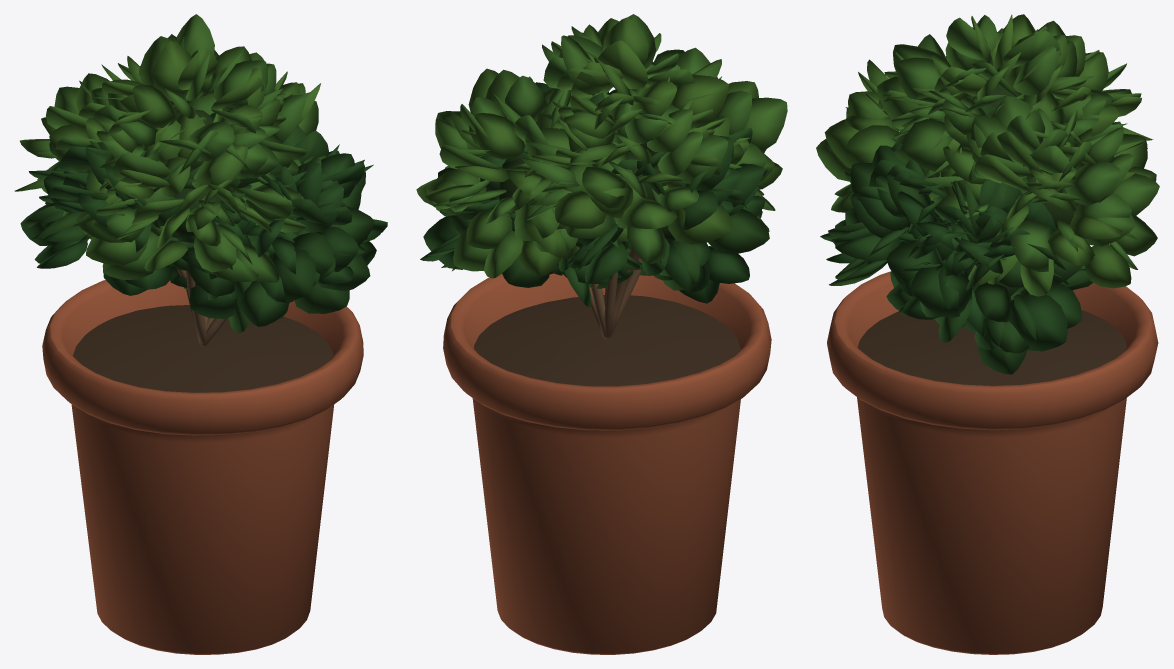
File: pot_bush.glb
The picture shows the model from 3 angles, left to right: view 1: azimuth 30°, elevation 25°; view 2: azimuth 150°, elevation 25°; view 3: azimuth 270°, elevation 25°; orthographic projection. The views are drawn at different scales.
Parts seen in each view (by area): view 1: Sammel Putz, Sammel Pflanze, Sammel Holz, Sammel Blatt; view 2: Sammel Putz, Sammel Pflanze, Sammel Holz, Sammel Blatt; view 3: Sammel Putz, Sammel Pflanze, Sammel Blatt.
Boxes of the visible parts, bbox=[...] form: Sammel Putz: bbox=[42, 280, 363, 654]; Sammel Pflanze: bbox=[14, 14, 387, 332]; Sammel Holz: bbox=[158, 236, 226, 346]; Sammel Blatt: bbox=[173, 109, 299, 238]; Sammel Putz: bbox=[443, 273, 771, 654]; Sammel Pflanze: bbox=[416, 14, 787, 306]; Sammel Holz: bbox=[589, 248, 642, 338]; Sammel Blatt: bbox=[498, 97, 674, 240]; Sammel Putz: bbox=[827, 271, 1158, 654]; Sammel Pflanze: bbox=[816, 14, 1159, 374]; Sammel Blatt: bbox=[907, 85, 1078, 296].
Size of the model in its own units: 0.5551 by 0.9418 by 0.4971.
